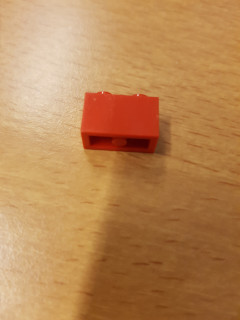1x2 red: (82, 90, 160, 155)
